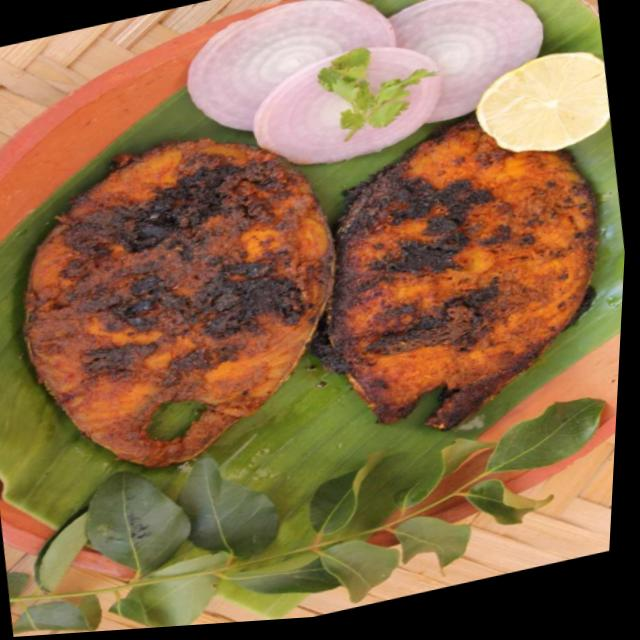FISH FRY: (22, 119, 600, 468)
